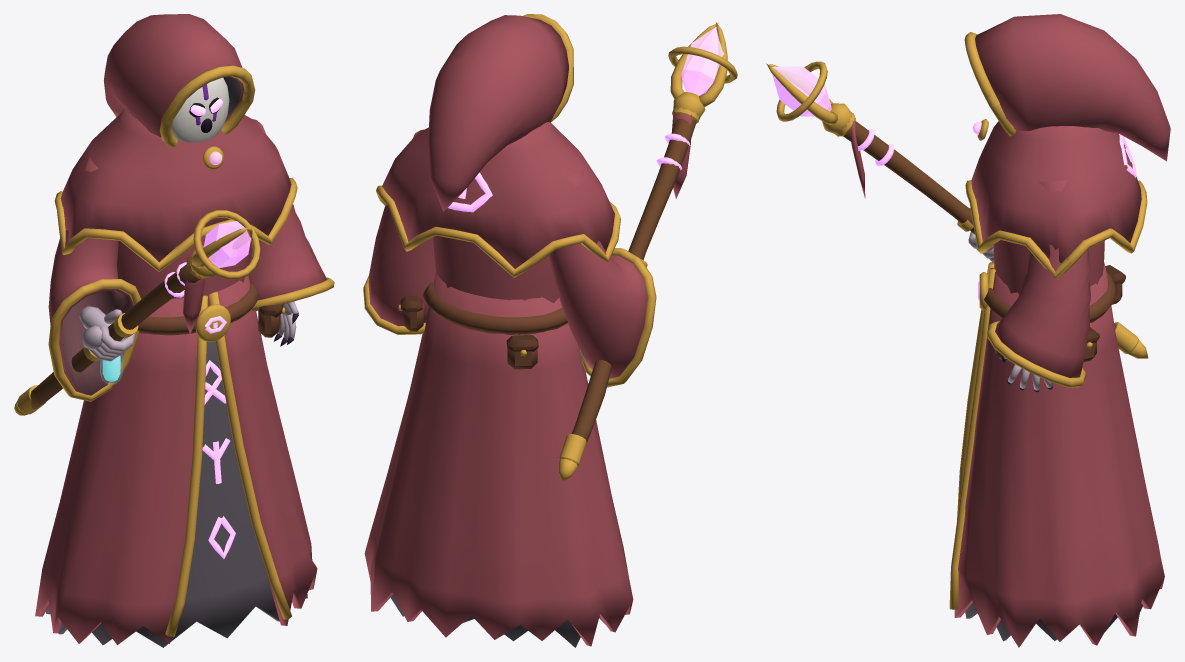
The model's file is enemy_cultist.glb.
The picture shows the model from 3 angles, left to right: view 1: azimuth 30°, elevation 25°; view 2: azimuth 150°, elevation 25°; view 3: azimuth 270°, elevation 25°; orthographic projection. The views are drawn at different scales.
Parts seen in each view (by area): view 1: Body, Head, ArmR, Staff, ArmL; view 2: Body, Head, ArmR, Staff, ArmL; view 3: Body, Head, ArmL, Staff.
Boxes of the visible parts, x1,y1,x2,y2 form: Body: (35, 108, 317, 647); Head: (104, 14, 255, 147); ArmR: (48, 155, 141, 401); Staff: (14, 210, 260, 415); ArmL: (248, 119, 334, 346); Body: (364, 122, 633, 647); Head: (428, 14, 573, 211); ArmR: (548, 170, 656, 387); Staff: (558, 22, 737, 482); ArmL: (363, 129, 435, 334); Body: (949, 119, 1164, 647); Head: (964, 14, 1170, 161); ArmL: (987, 180, 1091, 392); Staff: (766, 61, 1148, 358).
Bounding box in the file's own units: 0.9639 × 1.91 × 1.22.
